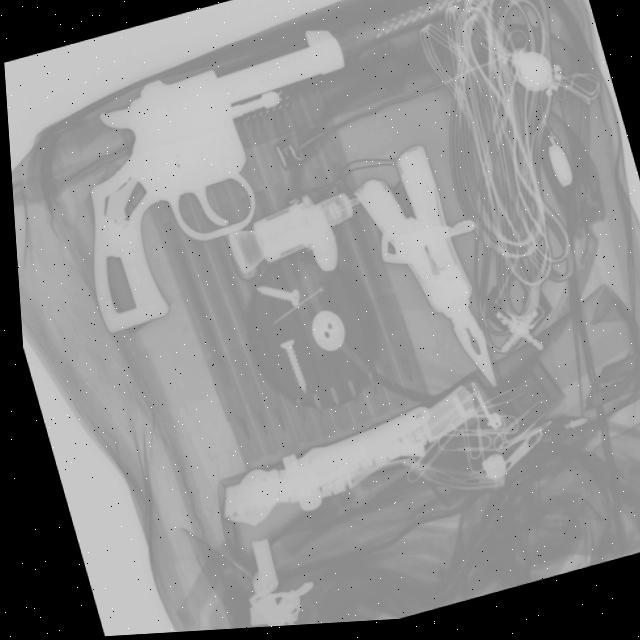pistol: (35, 23, 400, 339)
